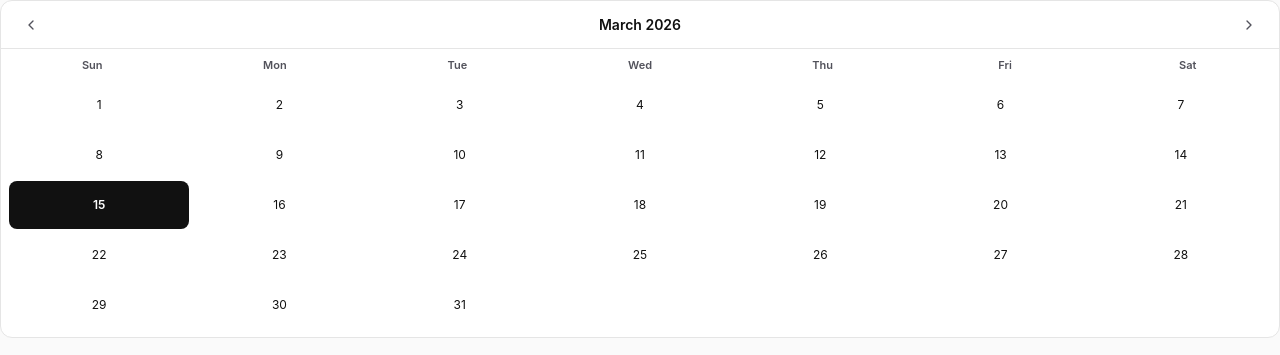
Test: MiniCalendar › navigates to previous month
Click the button named "Previous month". click: (31, 24)
box: [17, 10, 45, 38]
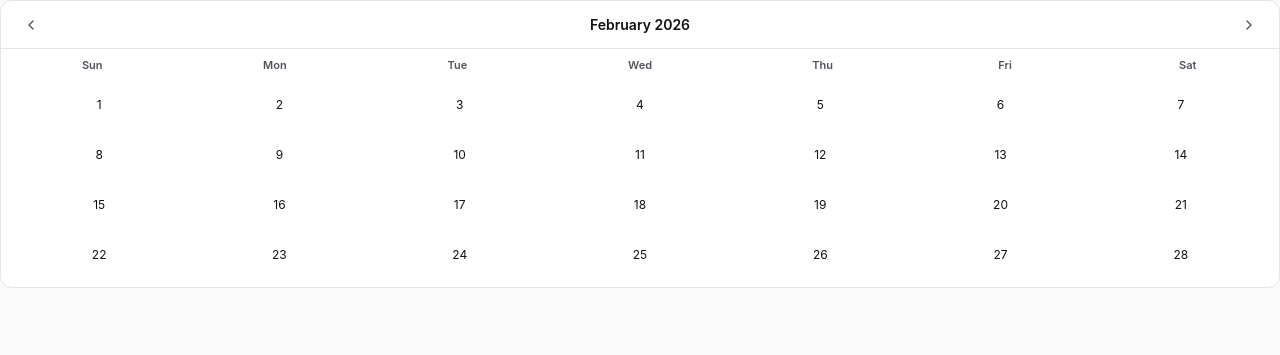
expect the text "February 2026" is shown: met, box [590, 14, 690, 35]
